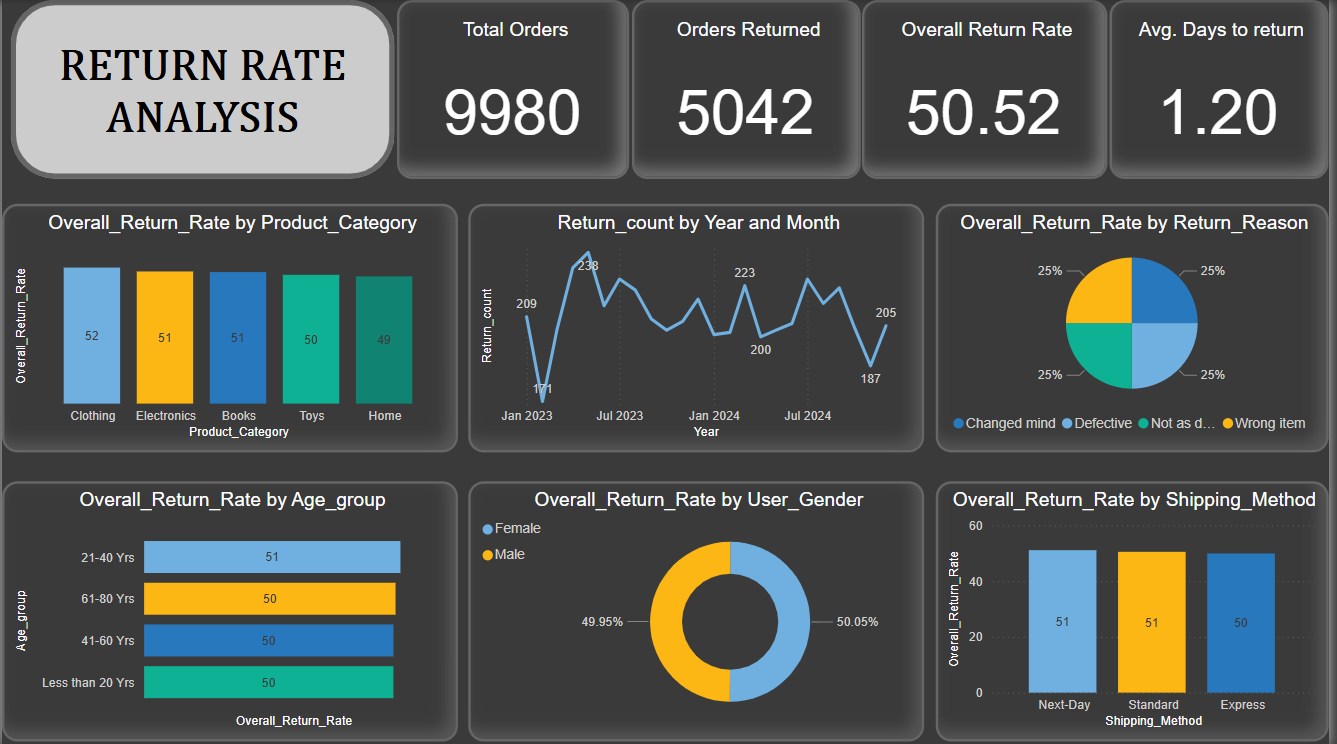

Layout of this report page (visuals, bound fields, positions):
{"tool":"powerbi","page":{"name":"Page 1","canvas":[1280,720],"ordinal":0},"visuals":[{"type":"card","title":"Overall Return Rate","fields":{"Values":["ecommerce_returns_synthetic_data.Return Rate"]},"box":[830,0,236.5,172.5],"z":0},{"type":"columnChart","title":"Overall_Return_Rate by Product_Category","fields":{"Category":["ecommerce_returns_synthetic_data.Product_Category"],"Y":["ecommerce_returns_synthetic_data.Overall_Return_Rate"],"Series":["ecommerce_returns_synthetic_data.Product_Category"]},"box":[0,196.6,440.4,240.1],"z":1000},{"type":"lineChart","fields":{"Y":["ecommerce_returns_synthetic_data.Return_count"],"Category":["ecommerce_returns_synthetic_data.Return_Date.Variation.Date Hierarchy.Year","ecommerce_returns_synthetic_data.Return_Date.Variation.Date Hierarchy.Month"]},"box":[450,196.6,440.4,240.1],"z":2000},{"type":"barChart","title":"Overall_Return_Rate by Age_group","fields":{"Category":["ecommerce_returns_synthetic_data.Age_group"],"Y":["ecommerce_returns_synthetic_data.Overall_Return_Rate"],"Series":["ecommerce_returns_synthetic_data.Age_group"]},"box":[0,464.5,440.4,250.9],"z":3000},{"type":"donutChart","fields":{"Category":["ecommerce_returns_synthetic_data.User_Gender"],"Y":["ecommerce_returns_synthetic_data.Overall_Return_Rate"]},"box":[450,464.5,440.4,250.9],"z":4000},{"type":"card","title":"Total Orders","fields":{"Values":["CountNonNull(ecommerce_returns_synthetic_data.Order_ID)"]},"box":[381.2,0,224.4,172.5],"z":5000},{"type":"card","title":"Orders Returned","fields":{"Values":["ecommerce_returns_synthetic_data.Return_count"]},"box":[608,0,220.8,172.5],"z":6000},{"type":"card","title":"Avg. Days to return","fields":{"Values":["ecommerce_returns_synthetic_data.Avg_days"]},"box":[1068.9,0,211.1,172.5],"z":7000},{"type":"shape","title":"R","box":[8.4,0,370.4,172.5],"z":8000},{"type":"pieChart","fields":{"Category":["ecommerce_returns_synthetic_data.Return_Reason"],"Y":["ecommerce_returns_synthetic_data.Overall_Return_Rate"]},"box":[901.2,196.6,378.8,240.1],"z":9000},{"type":"columnChart","title":"Overall_Return_Rate by Shipping_Method","fields":{"Category":["ecommerce_returns_synthetic_data.Shipping_Method"],"Y":["ecommerce_returns_synthetic_data.Overall_Return_Rate"],"Series":["ecommerce_returns_synthetic_data.Shipping_Method"]},"box":[901.2,464.5,378.8,250.9],"z":10000},{"type":"textbox","box":[31.4,25.3,324.5,133.9],"z":11000}]}

Visuals, with their boxes in screenshot pixels (x1, y1, x2, y2), scaled from the page's 1280x720 canvas onto the 1337x744 screenshot:
"Overall Return Rate" card: locate(867, 0, 1114, 178)
"Overall_Return_Rate by Product_Category" columnChart: locate(0, 203, 460, 451)
lineChart - ecommerce_returns_synthetic_data.Return_count x ecommerce_returns_synthetic_data.Return_Date.Variation.Date Hierarchy.Year: locate(470, 203, 930, 451)
"Overall_Return_Rate by Age_group" barChart: locate(0, 480, 460, 739)
donutChart - ecommerce_returns_synthetic_data.User_Gender x ecommerce_returns_synthetic_data.Overall_Return_Rate: locate(470, 480, 930, 739)
"Total Orders" card: locate(398, 0, 633, 178)
"Orders Returned" card: locate(635, 0, 866, 178)
"Avg. Days to return" card: locate(1116, 0, 1336, 178)
"R" shape: locate(9, 0, 396, 178)
pieChart - ecommerce_returns_synthetic_data.Return_Reason x ecommerce_returns_synthetic_data.Overall_Return_Rate: locate(941, 203, 1336, 451)
"Overall_Return_Rate by Shipping_Method" columnChart: locate(941, 480, 1336, 739)
textbox: locate(33, 26, 372, 165)
